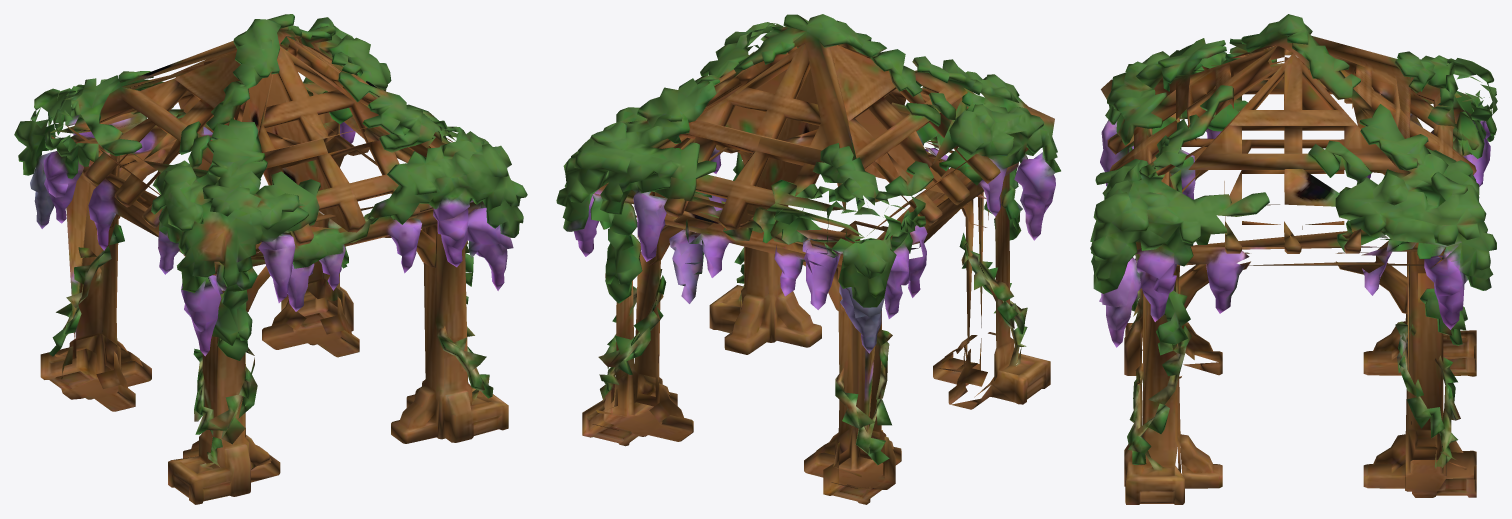
File: pergola.glb
3 views of the same model, side by side, from view 1: azimuth 30°, elevation 25°; view 2: azimuth 150°, elevation 25°; view 3: azimuth 270°, elevation 25° (orthographic). The views are drawn at different scales.
Parts seen in each view (by area): view 1: tripo_node_a6b6886e-3f78-4446-a422-543940f5ab2a; view 2: tripo_node_a6b6886e-3f78-4446-a422-543940f5ab2a; view 3: tripo_node_a6b6886e-3f78-4446-a422-543940f5ab2a.
Part boxes in pixels (x1,y1,x2,y2): tripo_node_a6b6886e-3f78-4446-a422-543940f5ab2a: (14,14,527,504); tripo_node_a6b6886e-3f78-4446-a422-543940f5ab2a: (556,14,1060,504); tripo_node_a6b6886e-3f78-4446-a422-543940f5ab2a: (1090,14,1497,504).
Size of the model in its own units: 0.8813 by 0.9769 by 0.8889.
1 material, 1 textured.
